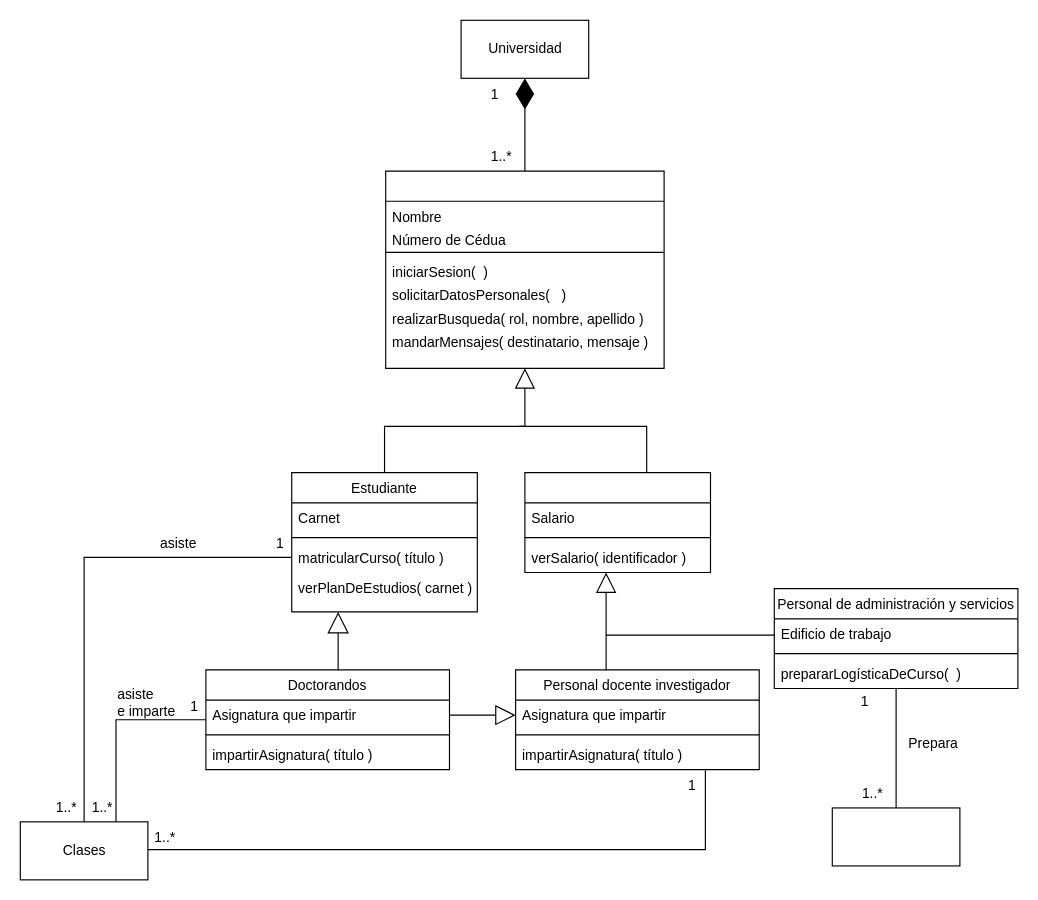
The diagram is 1038 pixels wide and 900 high, and some of its shapes have lost their labels. Here are the shapes that lost their labels. From the top down, the box of each, then its label:
(385, 170, 664, 368): Miembros de Comunidad
(524, 472, 710, 572): Personal de la universidad
(831, 807, 960, 866): Cursos
